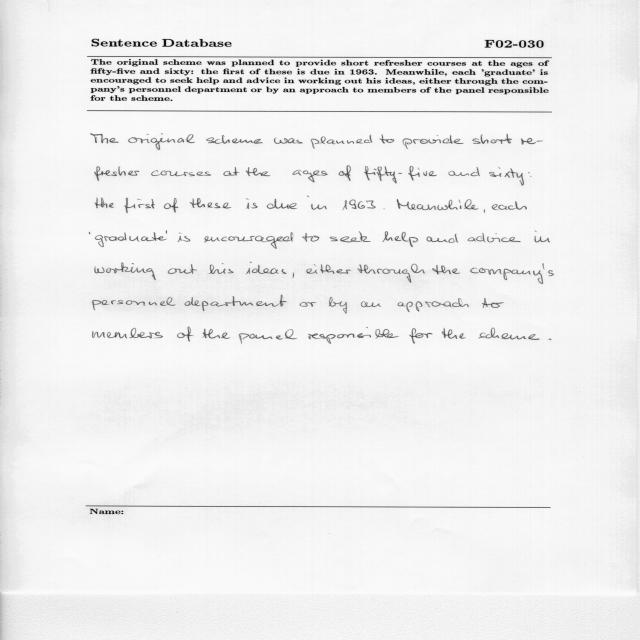word: (470, 263, 554, 284), (185, 295, 287, 311), (308, 327, 399, 344), (204, 232, 294, 249), (357, 264, 425, 283), (364, 166, 437, 183), (95, 231, 167, 248), (128, 133, 195, 150), (95, 263, 156, 281), (93, 297, 176, 310), (398, 298, 469, 312), (239, 329, 297, 344), (311, 135, 372, 149), (403, 135, 464, 149), (479, 327, 540, 340), (92, 328, 163, 338), (417, 199, 478, 210), (95, 166, 139, 181), (489, 167, 524, 185), (382, 231, 418, 247), (206, 135, 263, 144), (246, 262, 287, 274), (468, 233, 521, 242), (124, 198, 155, 213), (190, 198, 231, 209), (330, 232, 371, 243), (306, 264, 351, 274), (292, 170, 328, 182), (473, 134, 512, 144), (342, 200, 376, 211), (410, 328, 433, 344), (151, 171, 211, 177), (492, 201, 527, 210), (329, 297, 347, 314), (267, 199, 297, 209), (168, 264, 197, 274), (449, 167, 481, 176), (427, 234, 459, 243), (91, 134, 119, 144), (203, 329, 231, 339), (209, 263, 234, 274), (442, 328, 466, 339), (307, 196, 327, 209), (432, 265, 460, 274), (177, 327, 194, 341), (397, 199, 417, 210), (482, 298, 504, 308), (246, 167, 270, 176), (164, 198, 178, 213), (338, 166, 351, 181), (95, 198, 114, 208), (535, 231, 550, 243), (274, 138, 302, 144), (521, 138, 543, 145), (223, 167, 240, 176), (380, 134, 395, 144), (302, 233, 320, 241), (246, 198, 258, 209), (361, 302, 381, 308), (179, 233, 190, 242), (300, 302, 317, 307), (178, 236, 182, 242), (528, 172, 532, 177), (548, 338, 552, 340), (293, 274, 294, 279), (484, 209, 485, 213), (90, 232, 91, 234)
